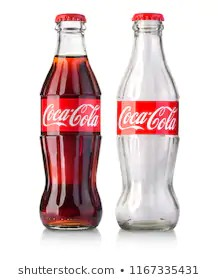coke-glass-bottle: (112, 9, 182, 231), (35, 12, 105, 231)
